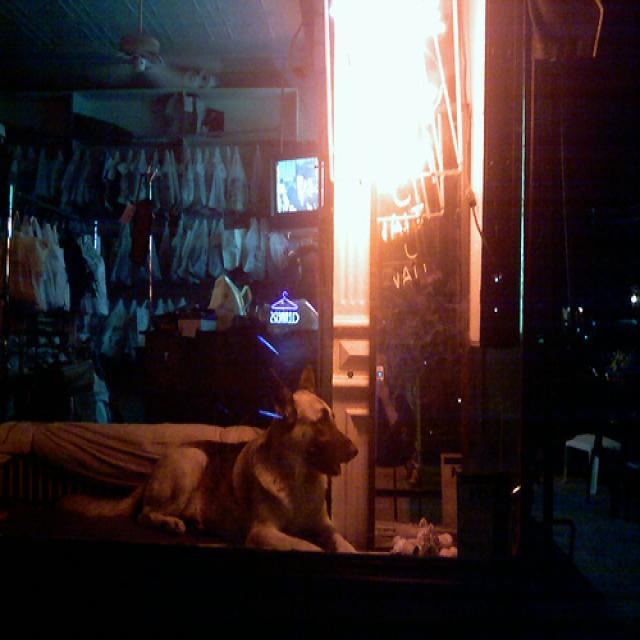dog: (93, 327, 370, 573)
